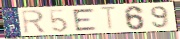5: (48, 8, 69, 33)
6: (124, 5, 147, 31)
9: (150, 5, 171, 29)
E: (71, 7, 99, 32)
R: (20, 9, 47, 35)
T: (98, 6, 119, 32)
